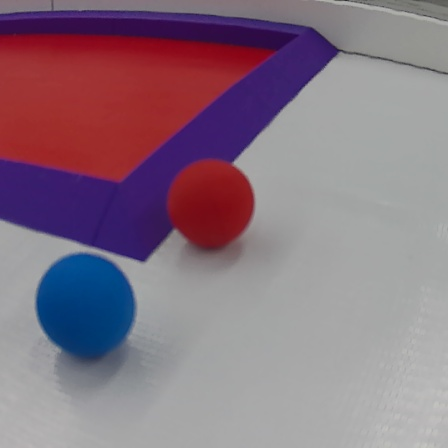blue: (33, 252, 140, 365)
red: (164, 156, 264, 255)
red_aim: (0, 4, 344, 263)
